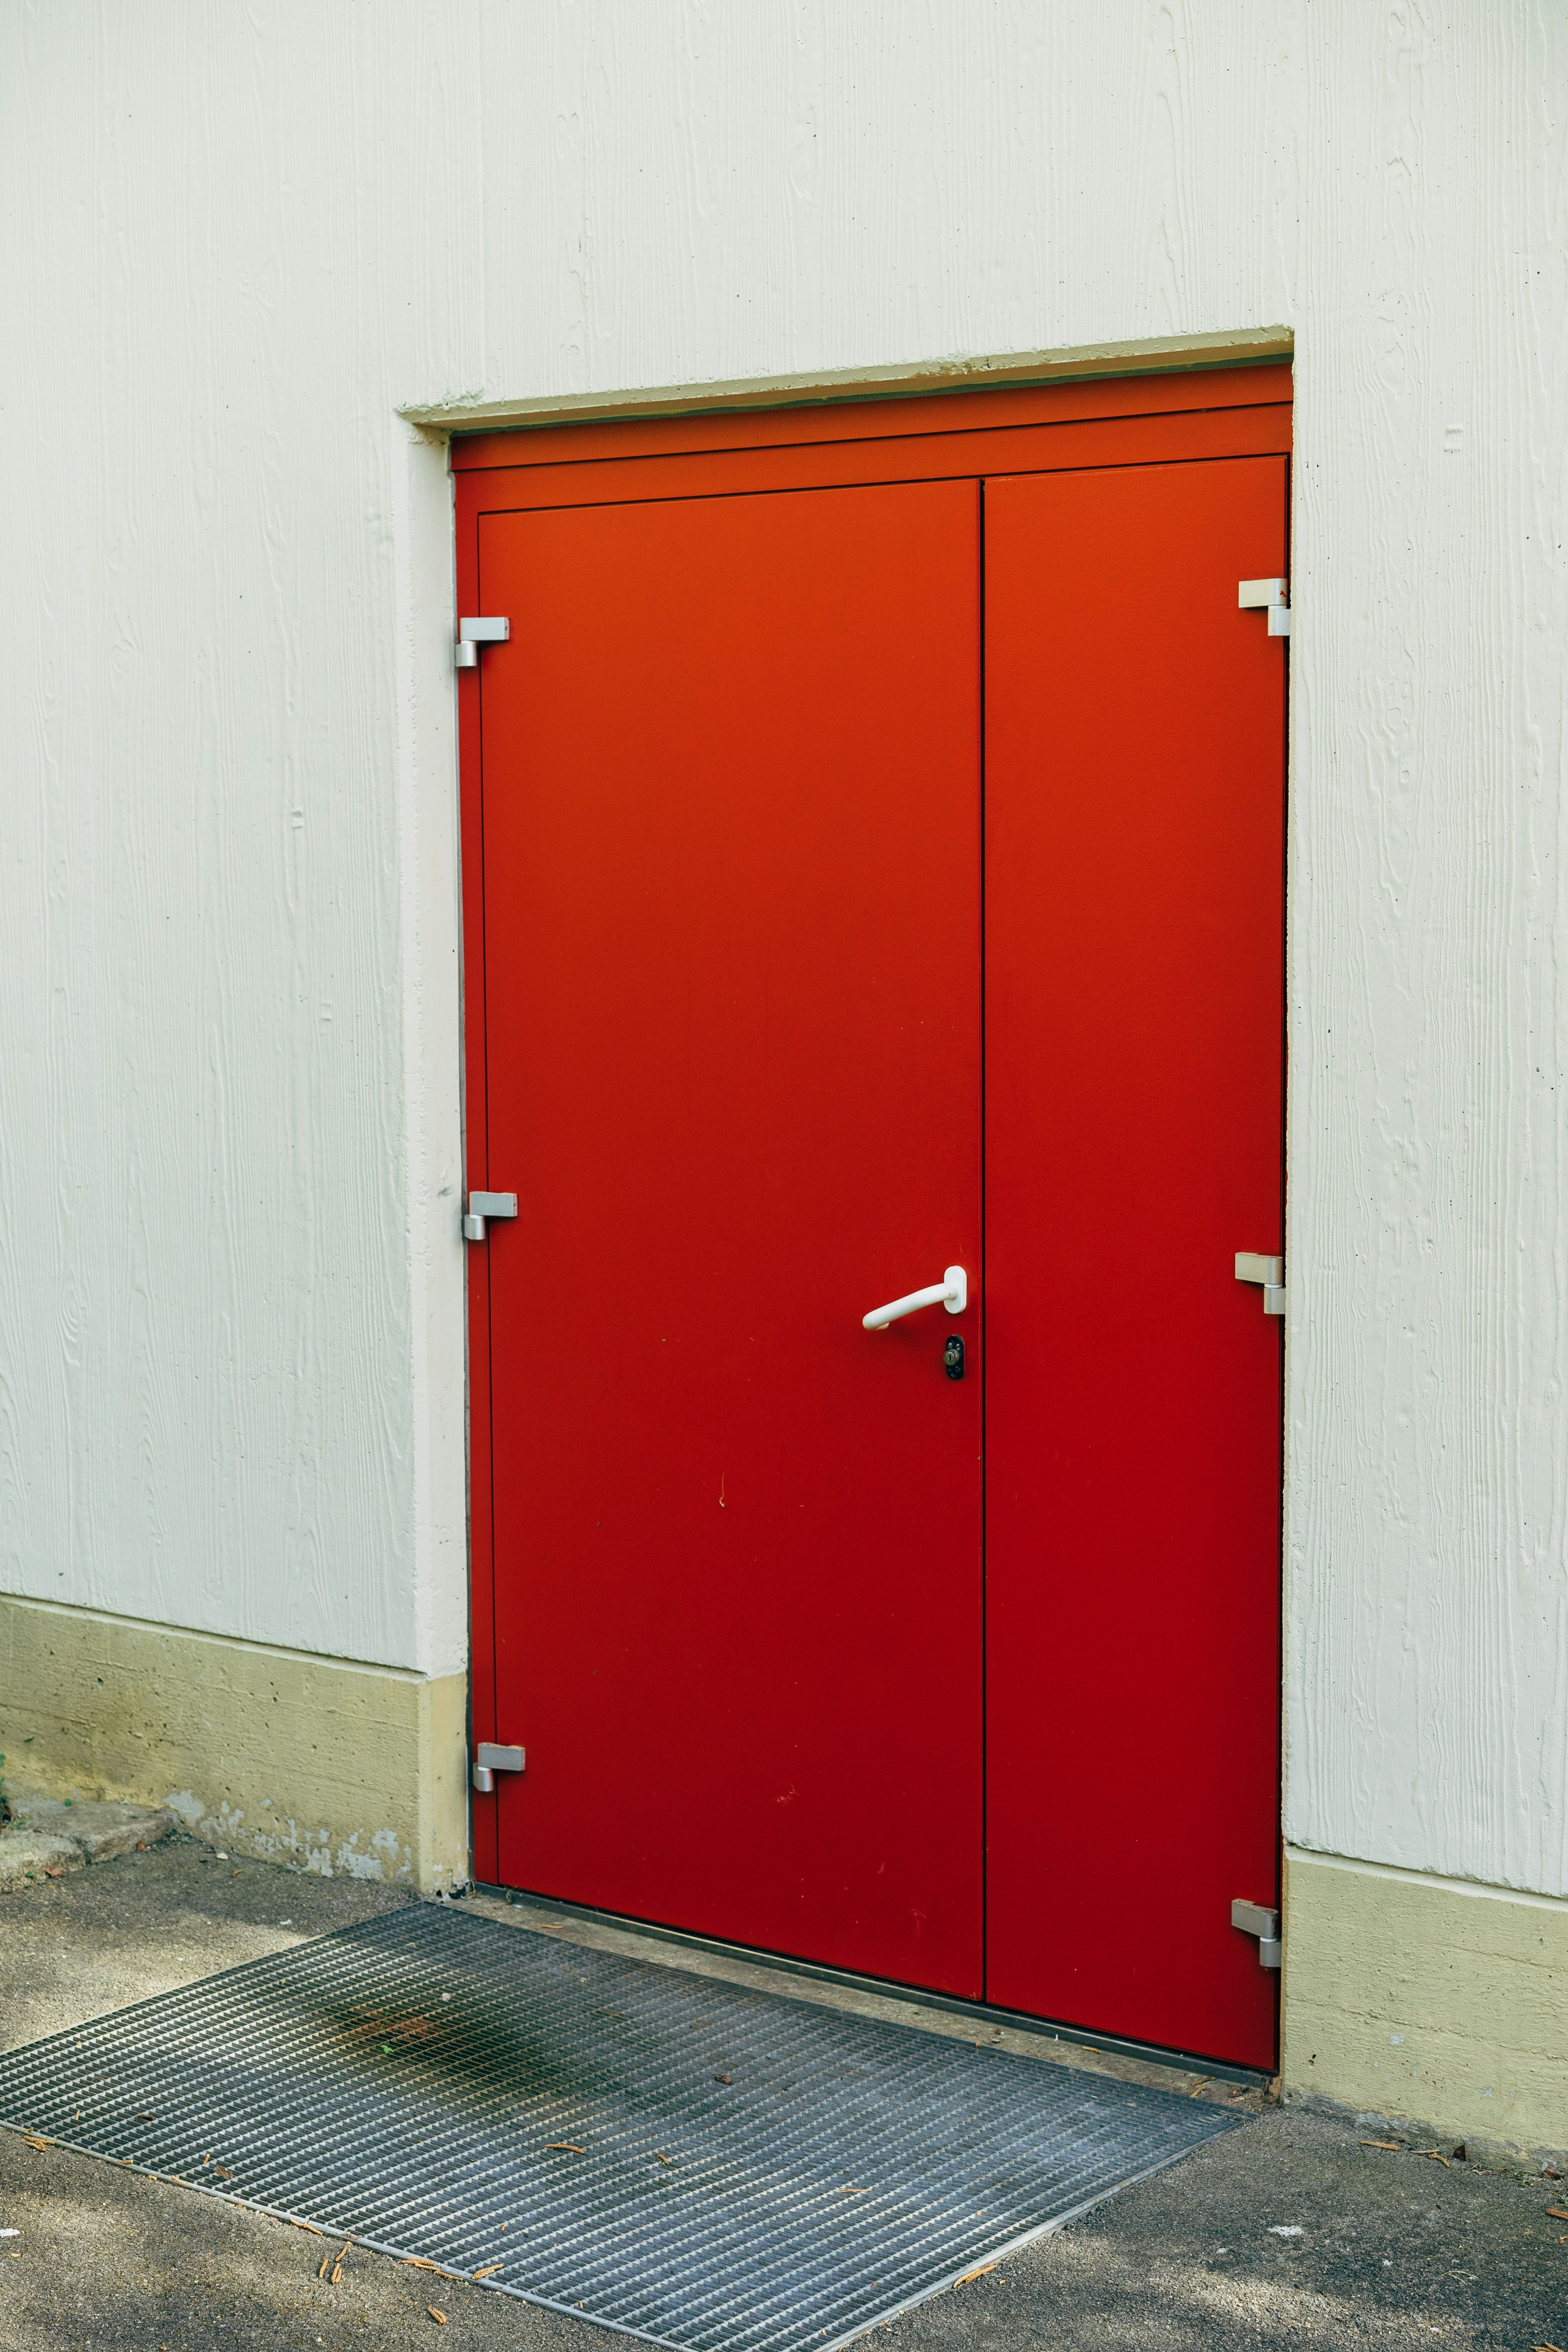door: (341, 316, 1378, 2134)
